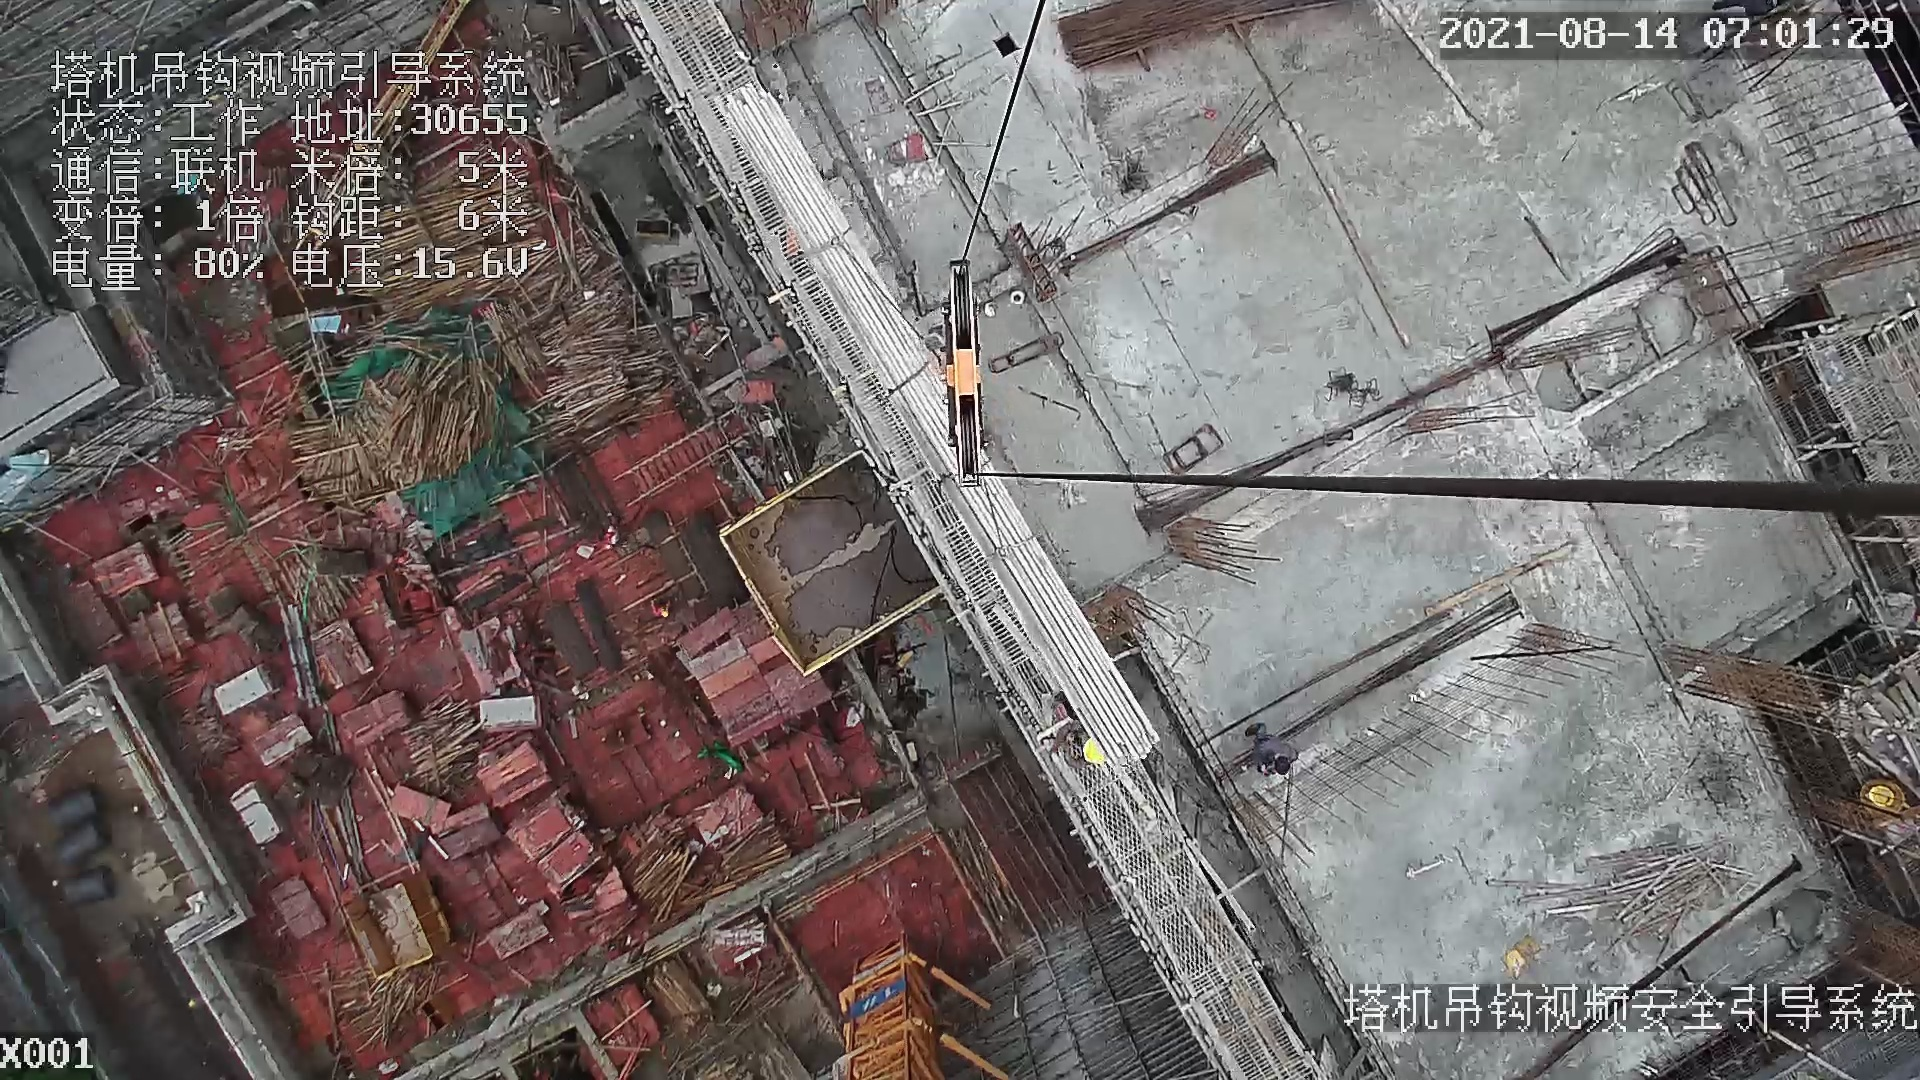helmet: (1081, 734, 1108, 769)
hook: (931, 256, 991, 491)
person: (1051, 699, 1105, 777), (1250, 723, 1308, 780)
